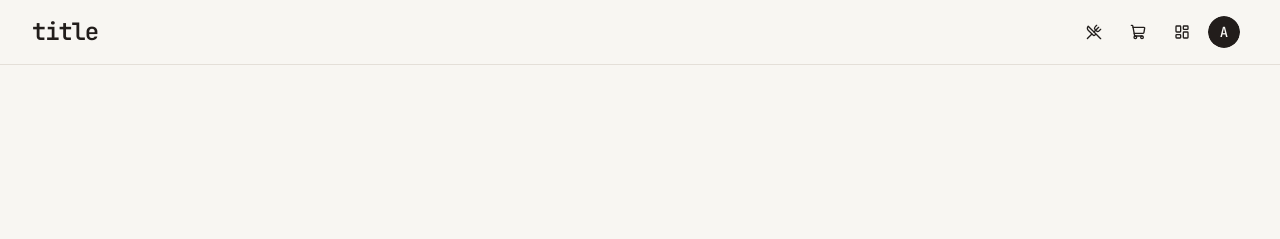
it: Header — Information Architecture rules › dashboard is a toolbar icon for operational roles only, not a menu item
The width and height of the screenshot is (1280, 239).
Step 1. Click the button named "userMenu" → point(1224, 32), box [1208,16,1240,48]
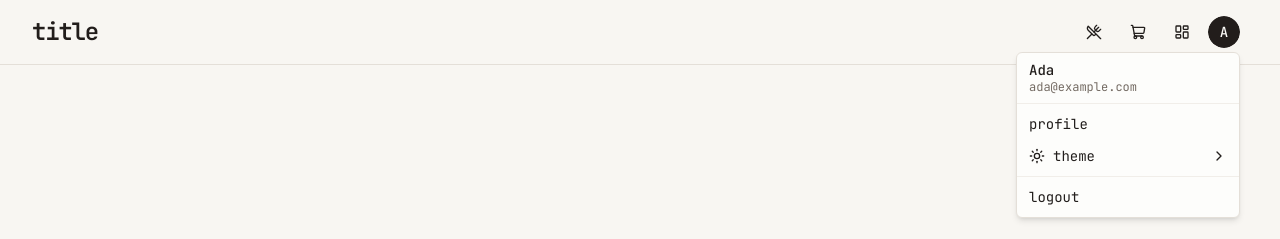
Now the menu is shown, box [1016,52,1240,218]
